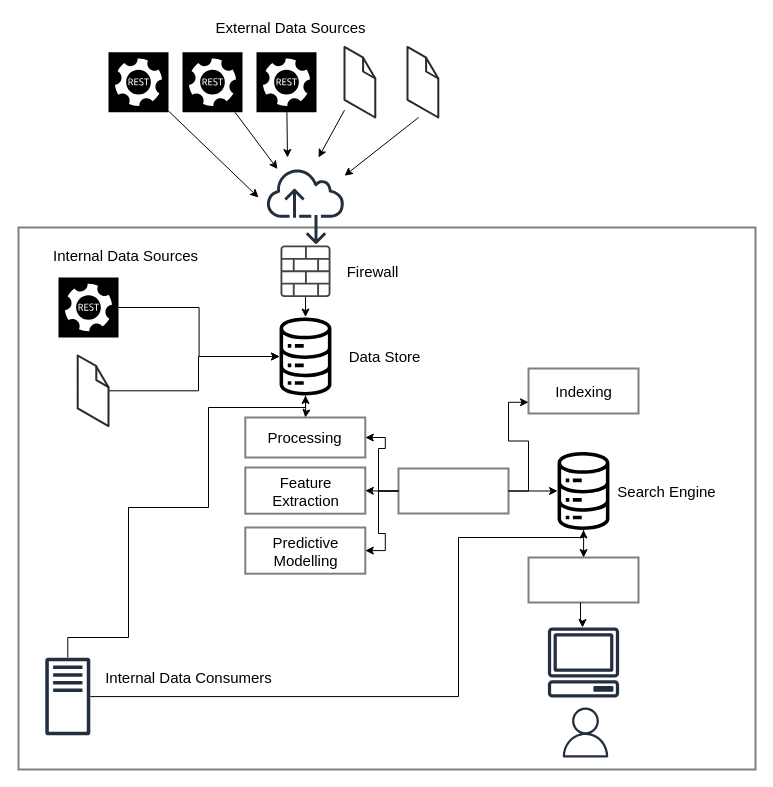
Some shapes in this 773 by 787 pixel diagram are drawn without their labels. The shapes that lost their labels are listed below. From the top down, each one's centre as x and y in pixels, then its label:
At point (453, 490): "Orchestrators".
At point (583, 579): "Web Application".
